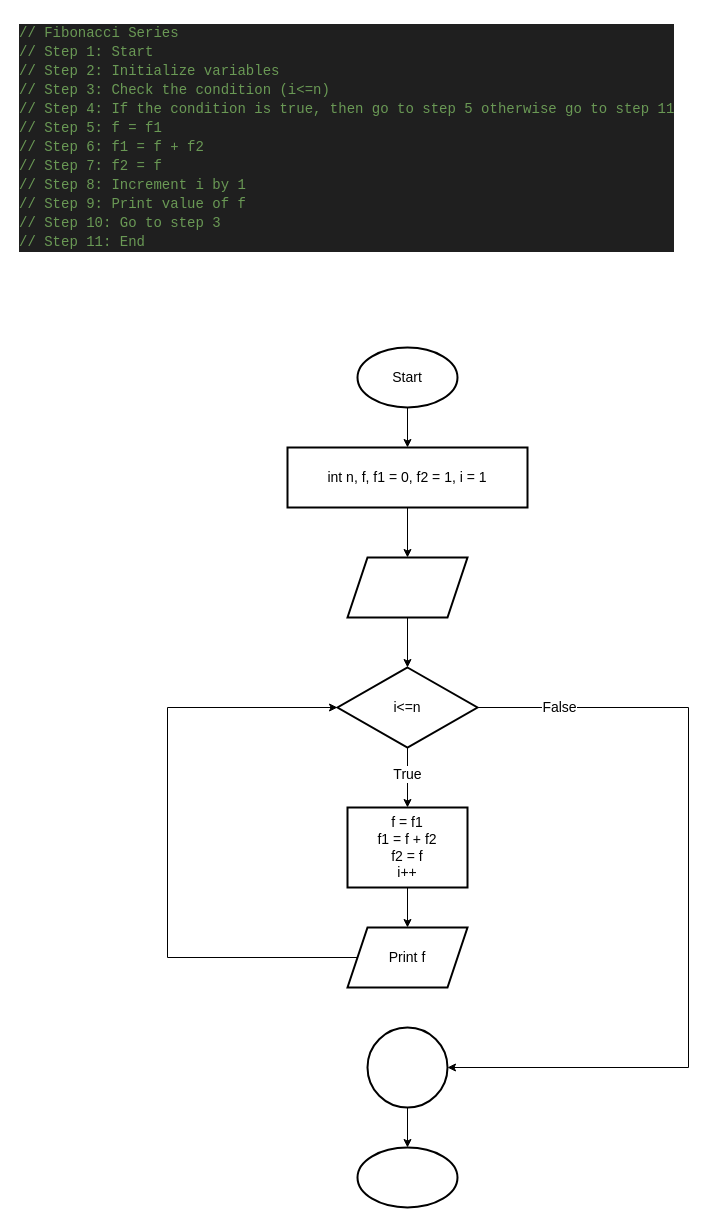
Image size: 714x1225. Some labels were removed from this diagram. Each missing label, with the box of its shape:
End: (356, 1146, 458, 1208)
Enter n: (346, 556, 468, 618)
